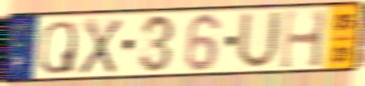3: (137, 13, 176, 75)
6: (182, 11, 223, 74)
H: (278, 8, 331, 72)
Q: (37, 19, 78, 76)
U: (234, 10, 284, 72)
X: (77, 17, 125, 77)
